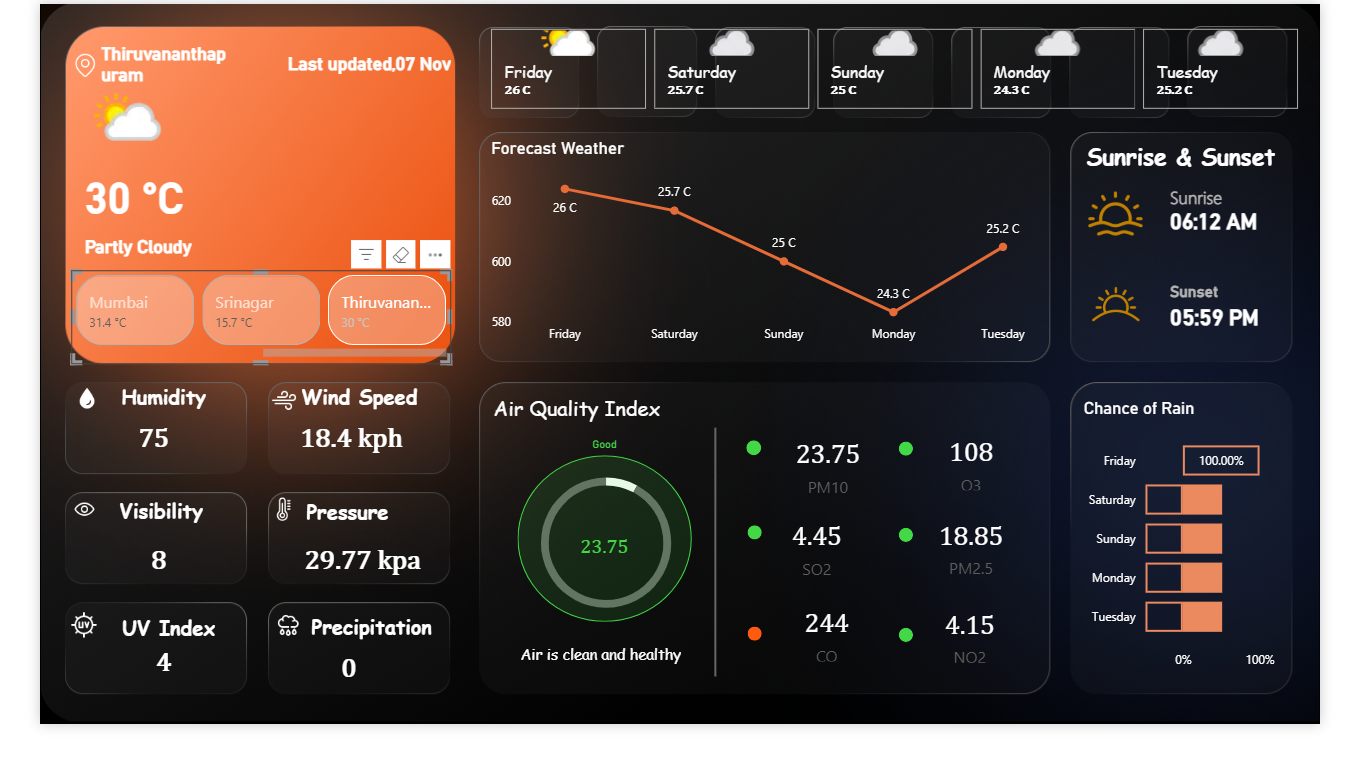

Layout of this report page (visuals, bound fields, positions):
{"tool":"powerbi","page":{"name":"Page 1","canvas":[1280,720],"ordinal":0},"visuals":[{"type":"advancedSlicerVisual","fields":{"Values":["location.location.name"],"Label":["_measures.curr_temp_c"]},"box":[31.7,266.7,380,93.3],"z":0},{"type":"shape","box":[45,145,170,97.5],"z":1000},{"type":"shape","box":[246.7,31.7,165,58.3],"z":2000},{"type":"shape","box":[61.7,31.7,126.7,58.3],"z":3000},{"type":"image","box":[0,45,90,33.3],"z":4000},{"type":"shape","box":[45,217.5,190,50],"z":5000},{"type":"cardVisual","fields":{"Data":["Min(current.current.condition.icon)"]},"box":[31.4,61.4,108.6,97.1],"z":6000},{"type":"image","box":[11.4,488.6,65.7,32.9],"z":7000},{"type":"shape","box":[58.6,377.1,130,32.9],"z":8000},{"type":"shape","box":[64.3,488.6,130,32.9],"z":9000},{"type":"shape","box":[64.3,608.6,130,32.9],"z":10000},{"type":"shape","box":[247.1,607.1,144.3,32.9],"z":11000},{"type":"shape","box":[247.1,488.6,130,32.9],"z":12000},{"type":"shape","box":[247.1,377.1,130,32.9],"z":13000},{"type":"image","box":[15.7,378.6,61.4,31.4],"z":14000},{"type":"image","box":[8.6,602.9,70,37.1],"z":15000},{"type":"image","box":[214.3,378.6,60,35.7],"z":16000},{"type":"image","box":[214.3,488.6,60,32.9],"z":17000},{"type":"image","box":[215.7,604.3,64.3,35.7],"z":18000},{"type":"card","fields":{"Values":["Sum(current.current.humidity)"]},"box":[38.6,410,150,48.6],"z":19000},{"type":"card","fields":{"Values":["Sum(current.current.precip_in)"]},"box":[234.3,640,150,48.6],"z":20000},{"type":"card","fields":{"Values":["Sum(current.current.vis_km)"]},"box":[44.3,531.4,150,48.6],"z":21000},{"type":"card","fields":{"Values":["Sum(current.current.uv)"]},"box":[48.6,641.4,150,32.9],"z":22000},{"type":"card","fields":{"Values":["_measures.pressure"]},"box":[247.1,531.4,150,48.6],"z":23000},{"type":"advancedSlicerVisual","fields":{"Values":["forecast by day.day name"],"Label":["_measures.ForTEMP_C"]},"box":[445.7,20,820,90],"z":24000},{"type":"lineChart","title":"Forecast Weather ","fields":{"Y":["Sum(forecast by day.forecast.forecastday.day.avgtemp_c)"],"Category":["forecast by day.day name"]},"box":[445.7,134.3,565.7,214.3],"z":25000},{"type":"shape","box":[1040,135.7,201.4,41.4],"z":26000},{"type":"shape","box":[1130,168.6,111.4,48.6],"z":27000},{"type":"shape","box":[1130,264.3,111.4,48.6],"z":28000},{"type":"shape","box":[1130,192.9,111.4,48.6],"z":29000},{"type":"shape","box":[1130,288.6,111.4,48.6],"z":30000},{"type":"image","box":[1035.7,264.3,78.6,72.9],"z":31000},{"type":"image","box":[1035.7,177.1,78.6,64.3],"z":32000},{"type":"hundredPercentStackedBarChart","title":"Chance of Rain ","fields":{"Y":["Sum(forecast by day.forecast.forecastday.day.daily_chance_of_rain)","_measures.LEFT VALUE RAIN"],"Category":["forecast by day.day name"]},"box":[1039,394,201,280],"z":33000},{"type":"shape","box":[445.7,390,181.4,40],"z":34000},{"type":"card","fields":{"Values":["_measures.wind_speed"]},"box":[236.7,410,150,48.3],"z":35000},{"type":"card","fields":{"Values":["Sum(current.current.air_quality.pm2_5)"]},"box":[873.3,505,115,75],"z":37000},{"type":"card","fields":{"Values":["Sum(current.current.air_quality.o3)"]},"box":[873.3,426.7,115,65],"z":38000},{"type":"card","fields":{"Values":["Sum(current.current.air_quality.so2)"]},"box":[721.7,506.7,111.7,73.3],"z":39000},{"type":"card","fields":{"Values":["Sum(current.current.air_quality.no2)"]},"box":[872.5,598.8,115,65],"z":40000},{"type":"card","fields":{"Values":["Sum(current.current.air_quality.co)"]},"box":[728.8,597.5,116.2,65],"z":41000},{"type":"card","fields":{"Values":["Sum(current.current.air_quality.pm10)"]},"box":[731.2,426.2,113.8,68.8],"z":42000},{"type":"shape","box":[706.7,436.7,15,15],"z":43000},{"type":"shape","box":[707.1,622.9,14.3,14.3],"z":43002},{"type":"shape","box":[707.1,521.4,14.3,14.3],"z":43003},{"type":"shape","box":[858.6,524.3,14.3,14.3],"z":43004},{"type":"shape","box":[858.6,437.1,14.3,14.3],"z":43005},{"type":"shape","box":[858.6,624.3,14.3,14.3],"z":43006},{"type":"shape","box":[627.1,424.3,95.7,248.6],"z":43007},{"type":"card","fields":{"Values":["Sum(current.current.air_quality.pm10)"]},"box":[507.1,508.6,114.3,68.6],"z":43009},{"type":"donutChart","fields":{"Y":["Sum(current.current.air_quality.pm10)","MEASURE.left value PM10"]},"box":[455.7,452.9,220,172.9],"z":43010},{"type":"shape","box":[477.1,434.3,174.3,184.3],"z":43011},{"type":"shape","box":[470,640,181.4,40],"z":43012}]}

Visuals, with their boxes in screenshot pixels (x1, y1, x2, y2), scaled from the page's 1280x720 canvas onto the 1357x764 screenshot:
advancedSlicerVisual - location.location.name x _measures.curr_temp_c: bbox=(34, 283, 436, 382)
shape: bbox=(48, 154, 228, 257)
shape: bbox=(262, 34, 436, 96)
shape: bbox=(65, 34, 200, 96)
image: bbox=(0, 48, 95, 83)
shape: bbox=(48, 231, 249, 284)
cardVisual - Min(current.current.condition.icon): bbox=(33, 65, 148, 168)
image: bbox=(12, 518, 82, 553)
shape: bbox=(62, 400, 200, 435)
shape: bbox=(68, 518, 206, 553)
shape: bbox=(68, 646, 206, 681)
shape: bbox=(262, 644, 415, 679)
shape: bbox=(262, 518, 400, 553)
shape: bbox=(262, 400, 400, 435)
image: bbox=(17, 402, 82, 435)
image: bbox=(9, 640, 83, 679)
image: bbox=(227, 402, 291, 440)
image: bbox=(227, 518, 291, 553)
image: bbox=(229, 641, 297, 679)
card - Sum(current.current.humidity): bbox=(41, 435, 200, 487)
card - Sum(current.current.precip_in): bbox=(248, 679, 407, 731)
card - Sum(current.current.vis_km): bbox=(47, 564, 206, 615)
card - Sum(current.current.uv): bbox=(52, 681, 211, 716)
card - _measures.pressure: bbox=(262, 564, 421, 615)
advancedSlicerVisual - forecast by day.day name x _measures.ForTEMP_C: bbox=(473, 21, 1342, 117)
"Forecast Weather " lineChart: bbox=(473, 143, 1072, 370)
shape: bbox=(1103, 144, 1316, 188)
shape: bbox=(1198, 179, 1316, 230)
shape: bbox=(1198, 280, 1316, 332)
shape: bbox=(1198, 205, 1316, 256)
shape: bbox=(1198, 306, 1316, 358)
image: bbox=(1098, 280, 1181, 358)
image: bbox=(1098, 188, 1181, 256)
"Chance of Rain " hundredPercentStackedBarChart: bbox=(1102, 418, 1315, 715)
shape: bbox=(473, 414, 665, 456)
card - _measures.wind_speed: bbox=(251, 435, 410, 486)
card - Sum(current.current.air_quality.pm2_5): bbox=(926, 536, 1048, 615)
card - Sum(current.current.air_quality.o3): bbox=(926, 453, 1048, 522)
card - Sum(current.current.air_quality.so2): bbox=(765, 538, 884, 615)
card - Sum(current.current.air_quality.no2): bbox=(925, 635, 1047, 704)
card - Sum(current.current.air_quality.co): bbox=(773, 634, 896, 703)
card - Sum(current.current.air_quality.pm10): bbox=(775, 452, 896, 525)
shape: bbox=(749, 463, 765, 479)
shape: bbox=(750, 661, 765, 676)
shape: bbox=(750, 553, 765, 568)
shape: bbox=(910, 556, 925, 572)
shape: bbox=(910, 464, 925, 479)
shape: bbox=(910, 662, 925, 678)
shape: bbox=(665, 450, 766, 714)
card - Sum(current.current.air_quality.pm10): bbox=(538, 540, 659, 612)
donutChart - Sum(current.current.air_quality.pm10) x MEASURE.left value PM10: bbox=(483, 481, 716, 664)
shape: bbox=(506, 461, 691, 656)
shape: bbox=(498, 679, 691, 722)
